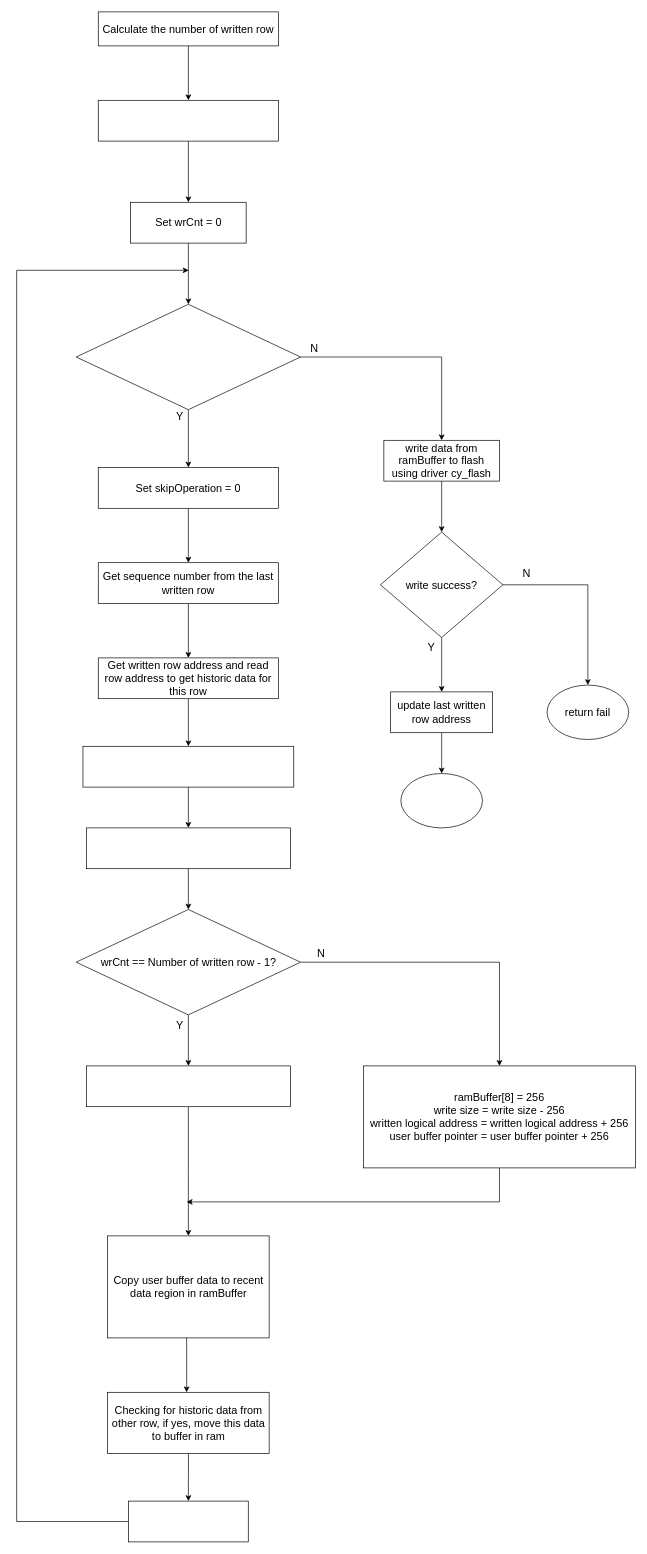
The diagram is 647 pixels wide and 1554 high, and some of its shapes have lost their labels. Here are the shapes that lost their labels. From the top down, the box of each, then its label:
(98, 100, 278, 141): Set eeHeaderDataOffset = 0
(75, 304, 301, 410): wrCnt < Number of written row?
(82, 746, 294, 787): sequence number = sequence number + 1
(400, 773, 482, 828): return success
(86, 827, 290, 869): ramBuffer[0] = sequence number ramBuffer[4] = written logical address
(86, 1065, 290, 1107): ramBuffer[8] = write size
(128, 1500, 248, 1542): wrCnt = wrCnt + 1
